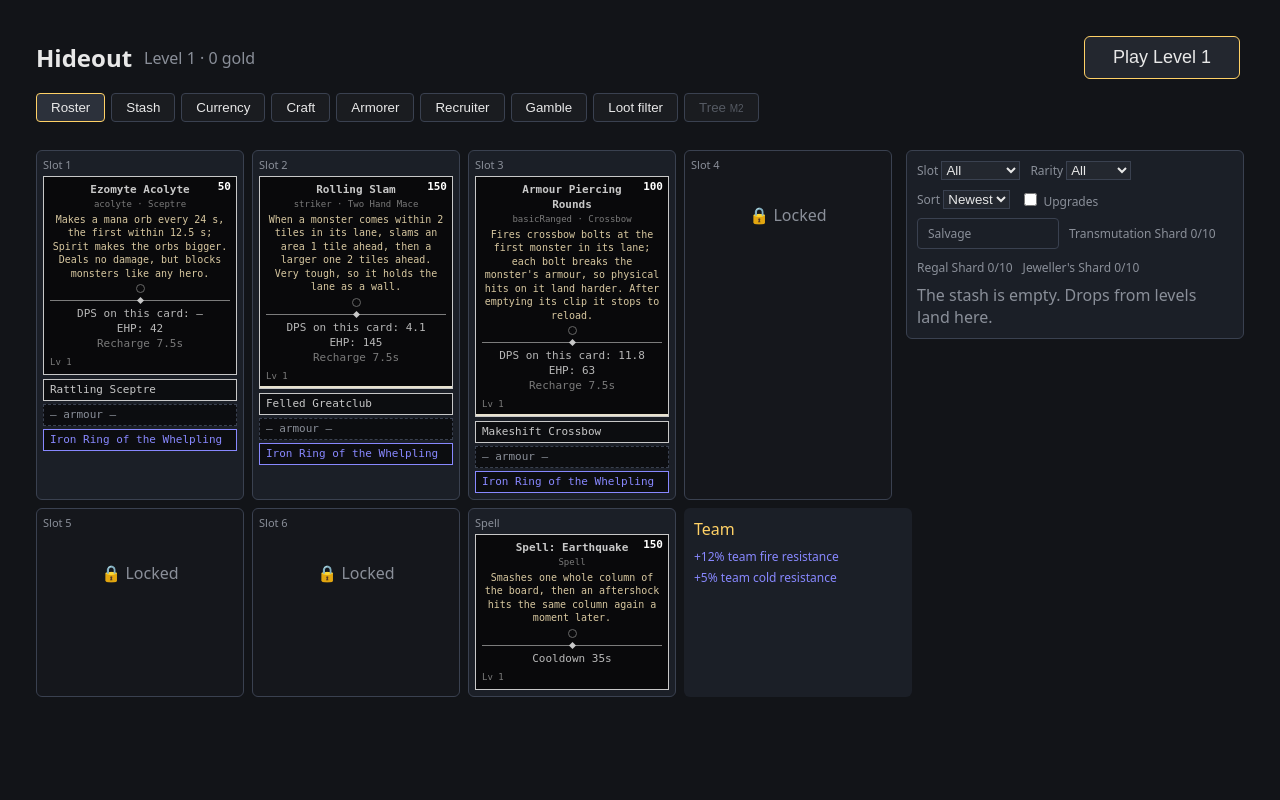
Scenario: the Team panel (GDD §15, A §2.1) › it sums the roster's team stats, and hovering a line lists exactly the items it comes from
Check: the text with test id "team-line-cold_resistance_%" shows "+5%", box [694, 569, 837, 586]
Hover over the text with test id "team-line-fire_resistance_%" at (766, 556), box [694, 548, 839, 565]
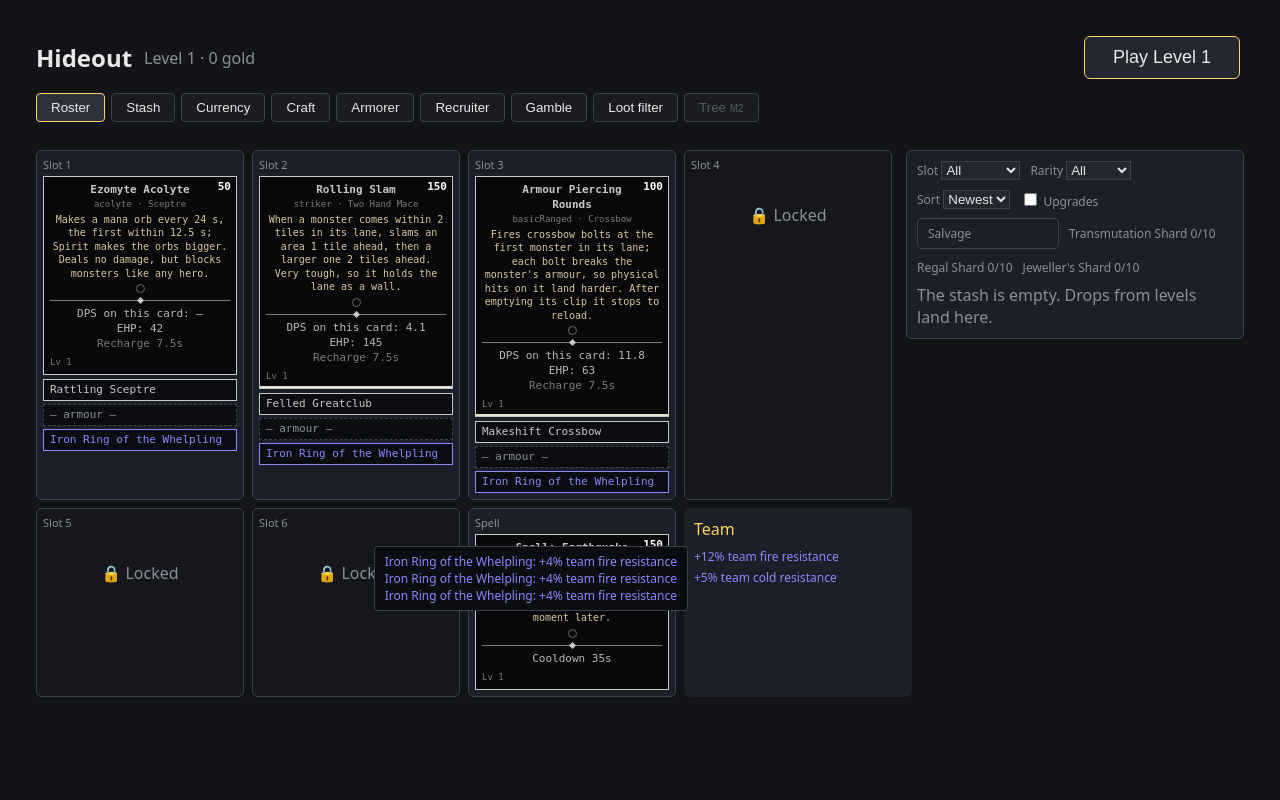
Check: the number of list items is 3, box [385, 553, 677, 570]; [385, 570, 677, 587]; [385, 587, 677, 604]
